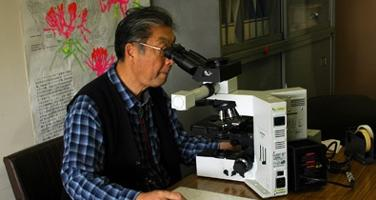person: (61, 8, 237, 200)
